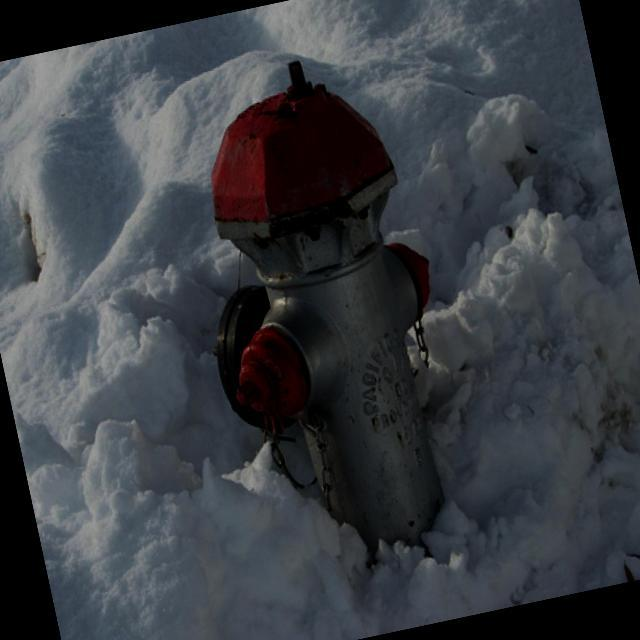fire_hydrant: (153, 40, 491, 589)
